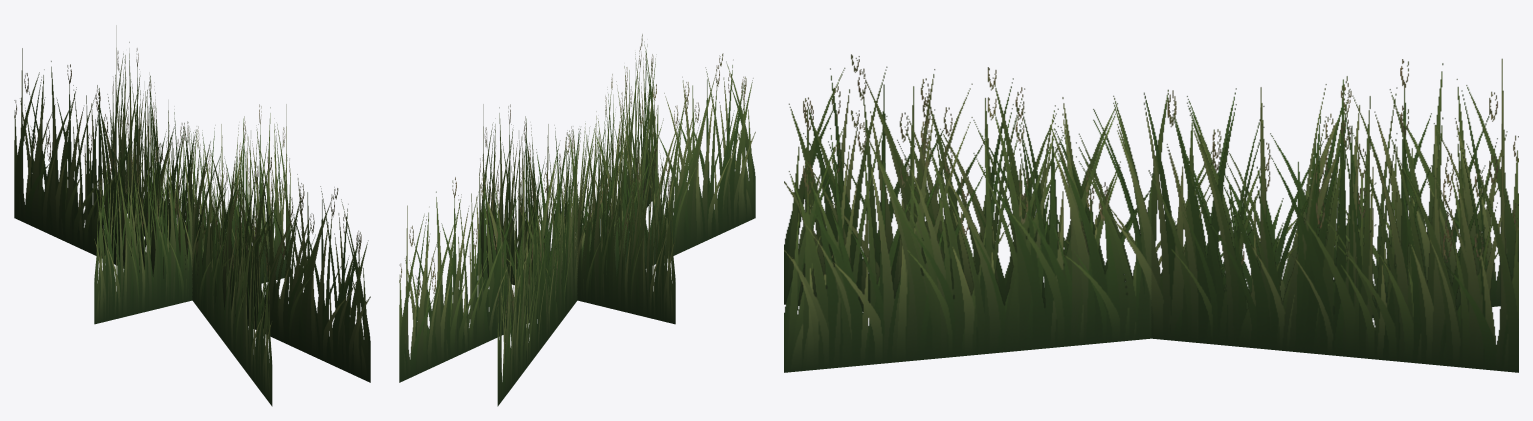
File: verge.glb
3 renders of one model, left to right at view 1: azimuth 30°, elevation 25°; view 2: azimuth 150°, elevation 25°; view 3: azimuth 270°, elevation 25°, orthographic. The views are drawn at different scales.
Visible parts, largest first — view 1: verge; view 2: verge; view 3: verge.
Part boxes in pixels (box(x1,y1,x2,y2)): verge: box(14, 25, 370, 406); verge: box(399, 34, 755, 406); verge: box(784, 54, 1518, 372).
Bounding box in the file's own units: 1.6 × 1.4 × 3.64.
1 material, 1 textured.
